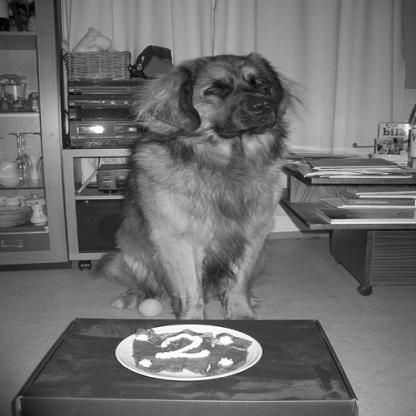Leonberger: (96, 47, 313, 336)
